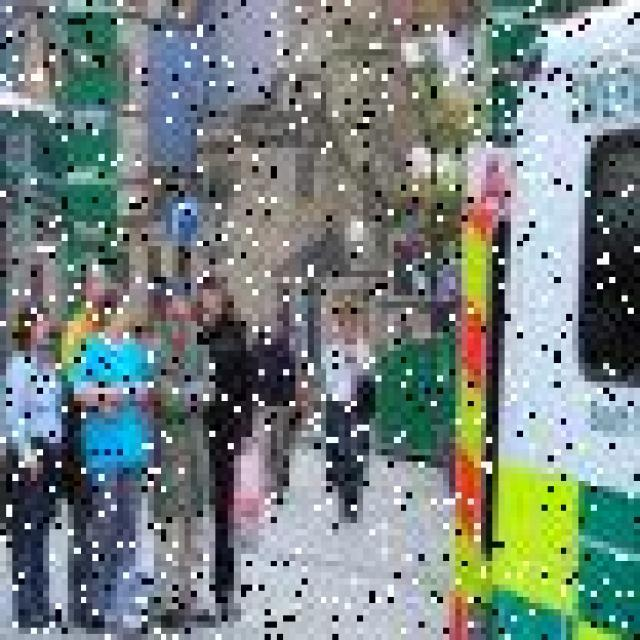emergency-vehicle: (421, 0, 637, 628)
